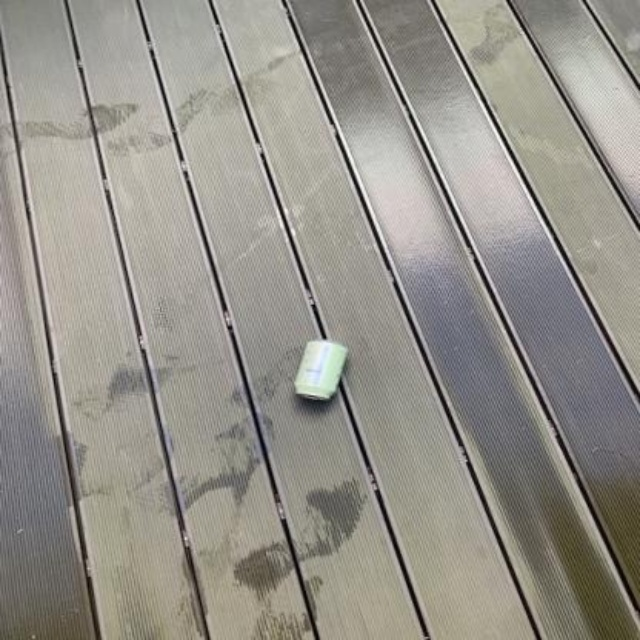trash: (295, 340, 346, 398)
